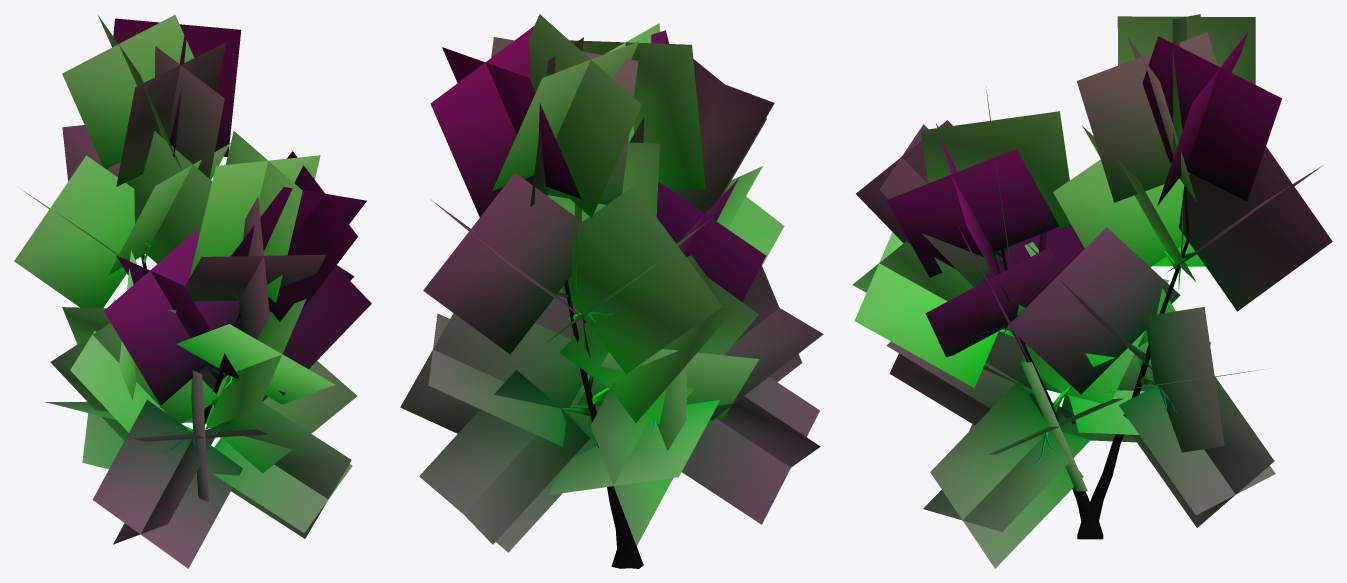
Rendered from M_P1_Tree_17.fbx.
3 renders of one model, left to right at view 1: azimuth 30°, elevation 25°; view 2: azimuth 150°, elevation 25°; view 3: azimuth 270°, elevation 25°, orthographic. The views are drawn at different scales.
Visible parts, largest first — view 1: M_Tree_1_17; view 2: M_Tree_1_17; view 3: M_Tree_1_17.
Boxes of the visible parts, x1,y1,x2,y2 form: M_Tree_1_17: (14,15,371,568); M_Tree_1_17: (400,14,823,568); M_Tree_1_17: (852,14,1332,568).
Bounding box in the file's own units: 670 × 1155 × 940.
